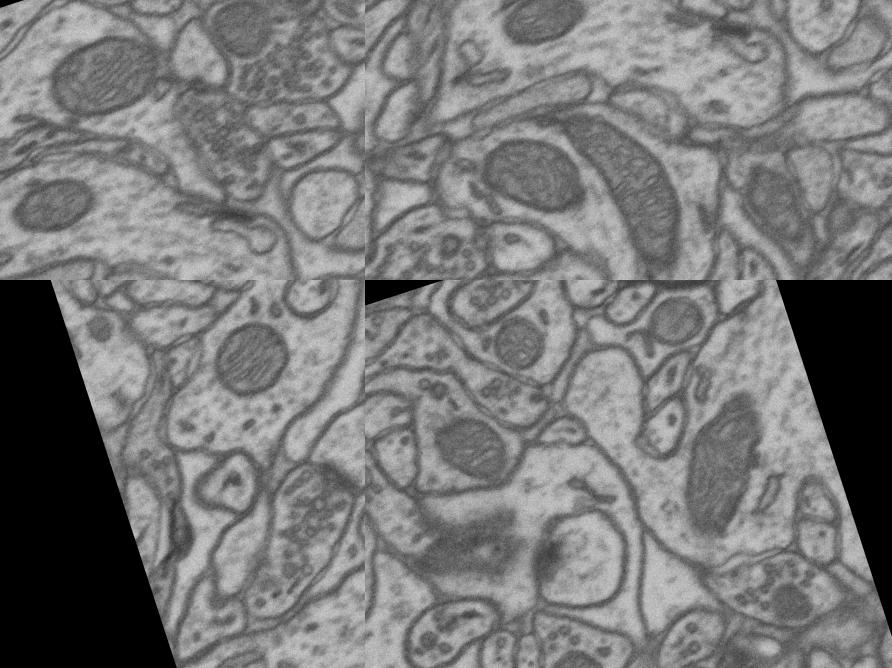mitochondria: (555, 80, 703, 280), (646, 390, 794, 554), (31, 16, 175, 134), (478, 123, 598, 244), (190, 303, 313, 418), (419, 394, 526, 500), (733, 154, 823, 262), (1, 162, 110, 249), (473, 297, 561, 385), (624, 280, 717, 363), (752, 560, 828, 639), (484, 0, 583, 59), (205, 0, 344, 39), (199, 0, 273, 67), (537, 634, 623, 668)
